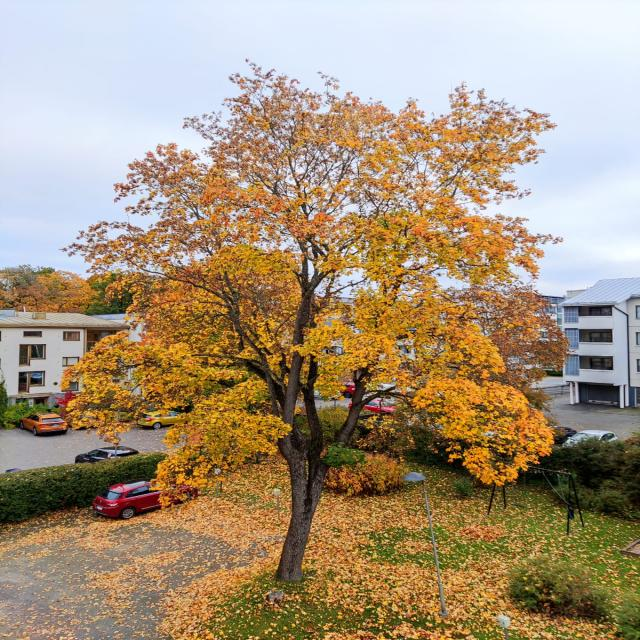Tree-detection: (51, 28, 574, 624)
